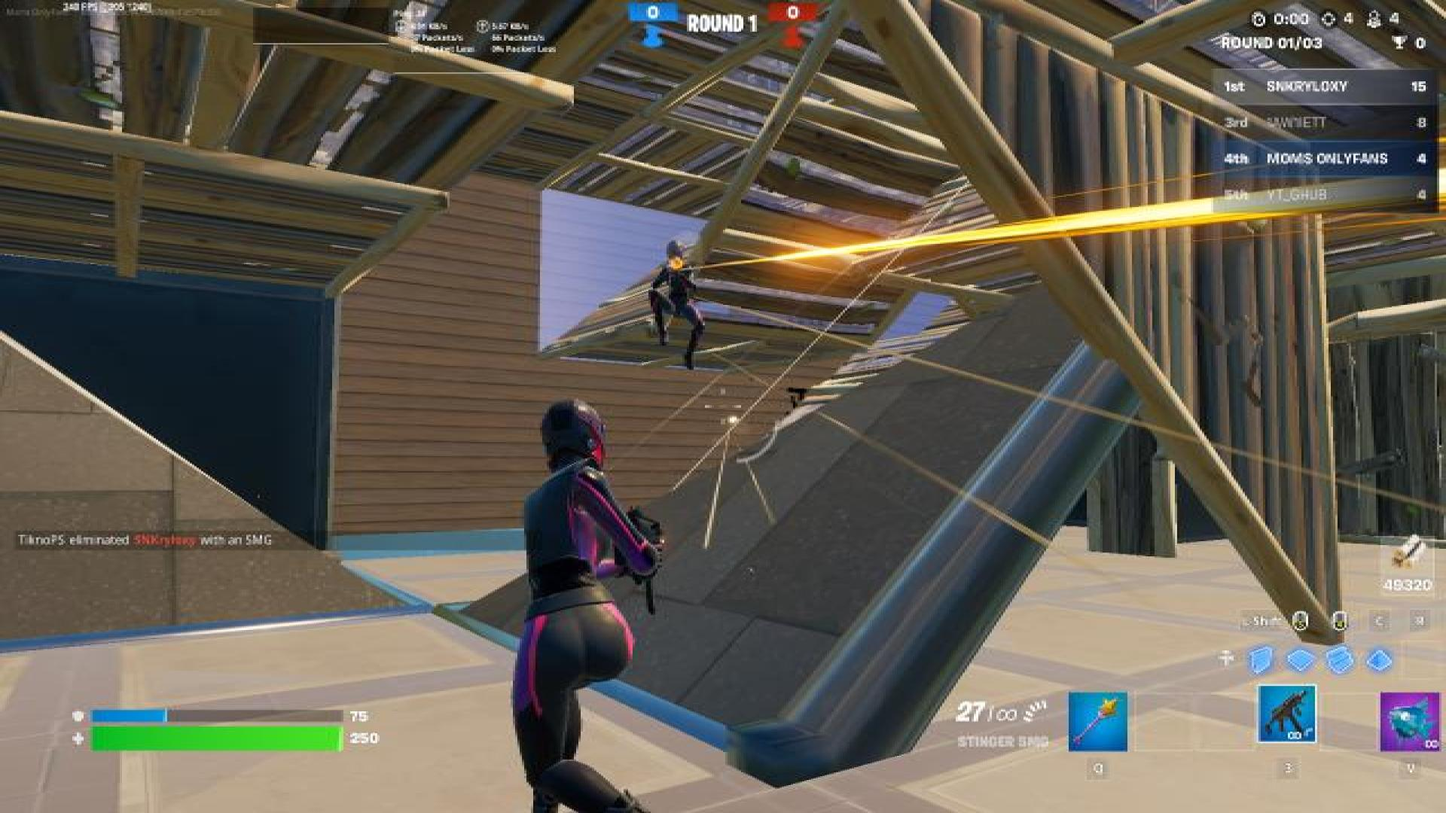player: (645, 236, 708, 376)
